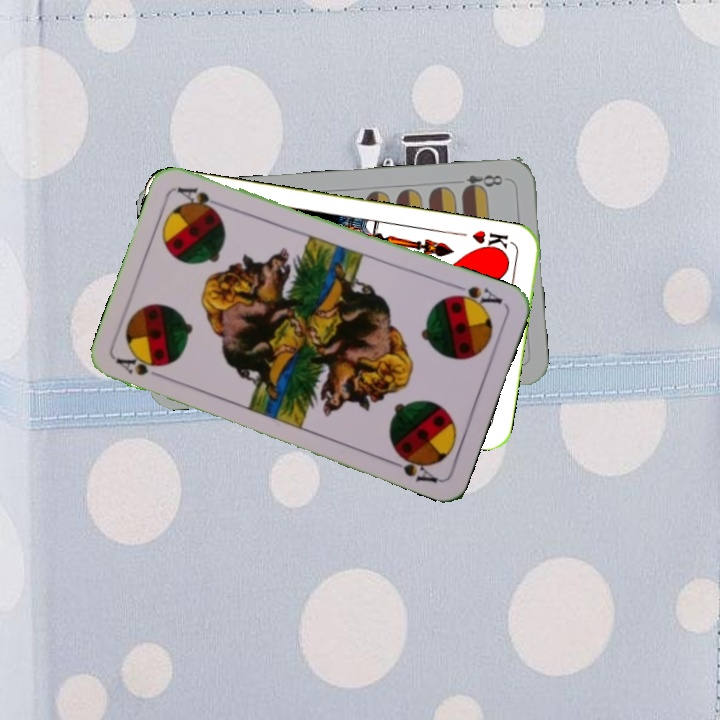E8: (451, 170, 506, 195)
HK: (468, 226, 511, 256)
SA: (445, 281, 505, 312), (112, 353, 170, 383)
